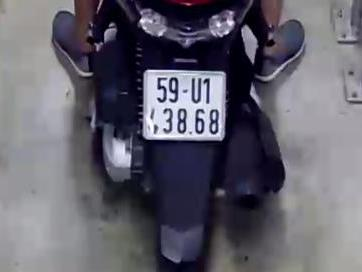num_plate: (141, 69, 228, 144)
